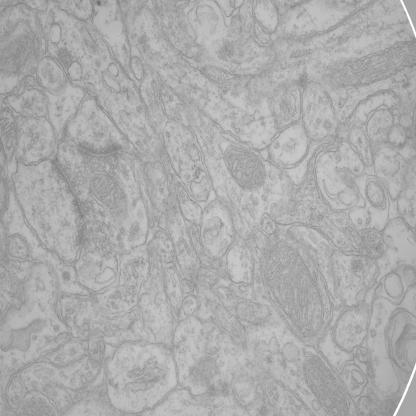mitochondria: (257, 233, 330, 344), (329, 34, 416, 93), (301, 350, 353, 416), (221, 140, 268, 194), (88, 171, 128, 218)
